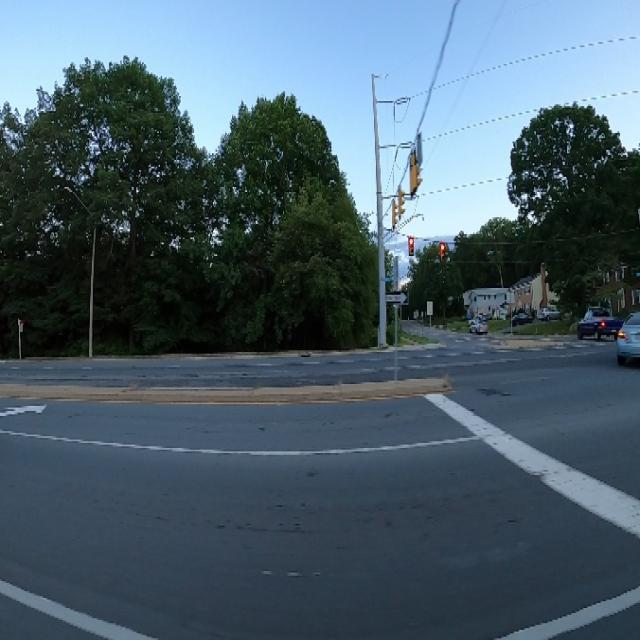car: (567, 298, 621, 345)
